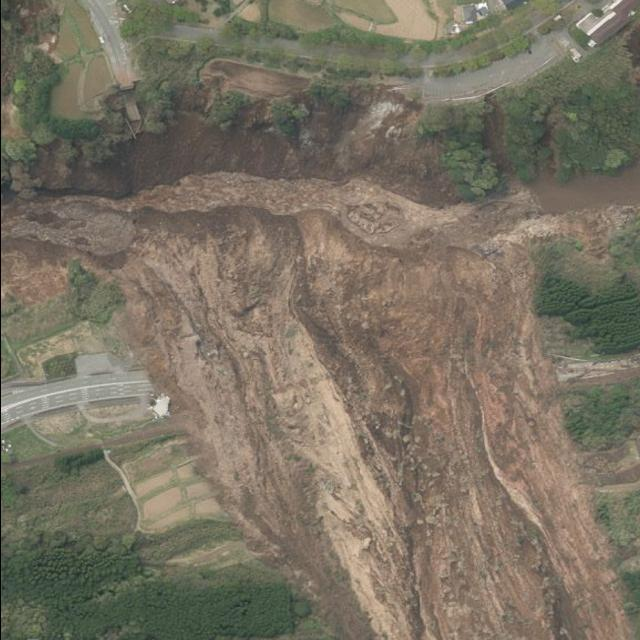landslide: (1, 88, 639, 640)
